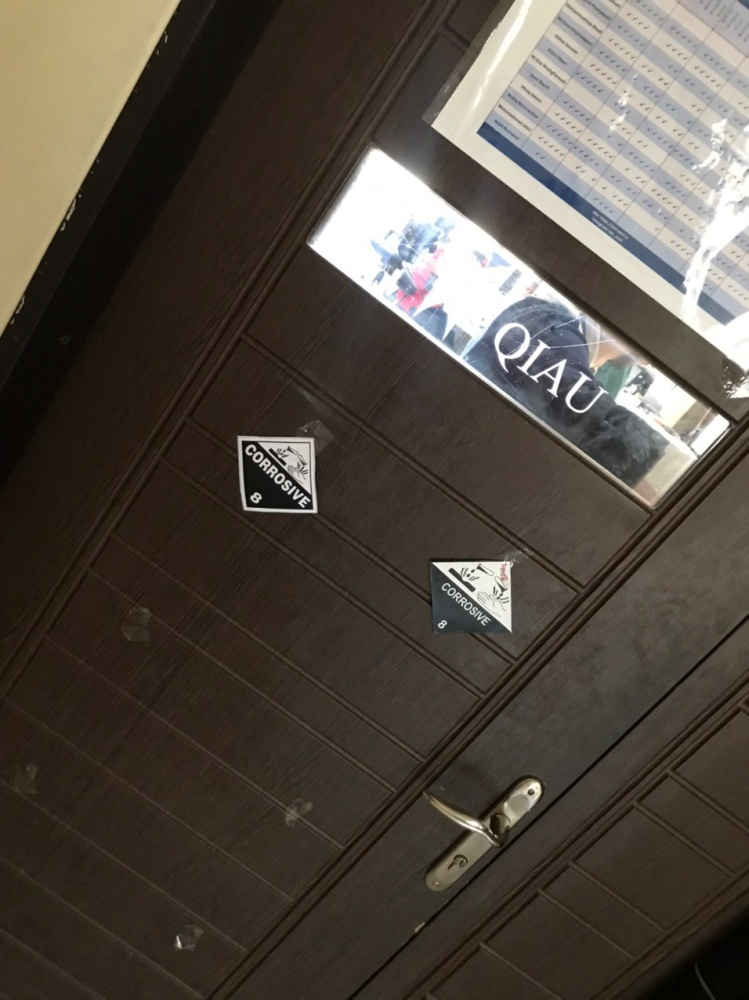Corrosive: (237, 436, 317, 513), (429, 561, 513, 634)
